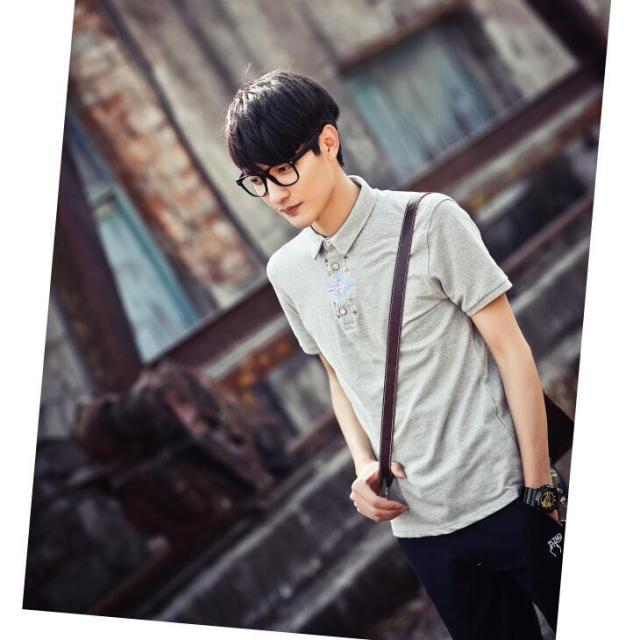short sleeve top: (268, 178, 559, 537)
trousers: (395, 469, 565, 639)
